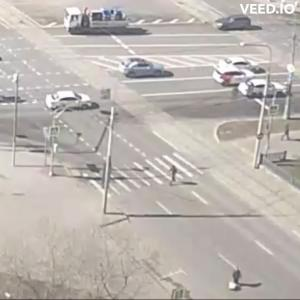car: (63, 9, 130, 40), (46, 91, 95, 113), (124, 61, 173, 80), (230, 59, 267, 82), (245, 82, 288, 101), (216, 16, 256, 33), (214, 68, 248, 87)
